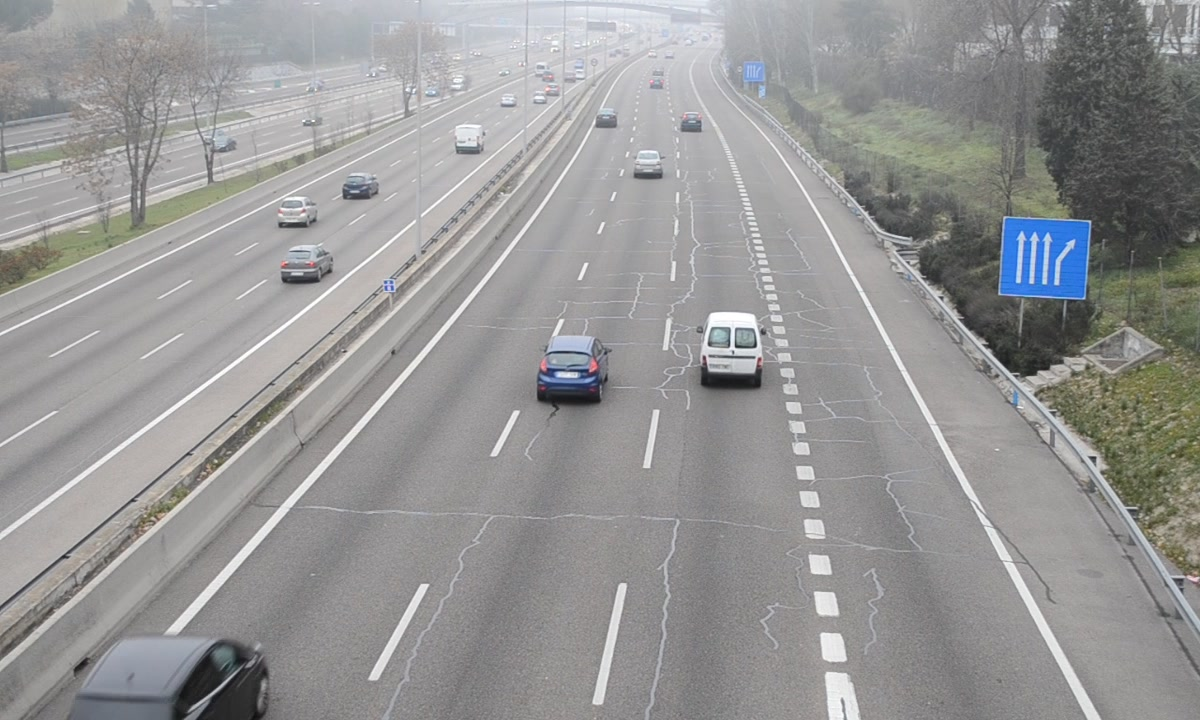car: (70, 634, 268, 720), (537, 336, 608, 402), (633, 151, 663, 179), (594, 105, 619, 129), (679, 112, 703, 134)
van: (700, 312, 764, 384)
